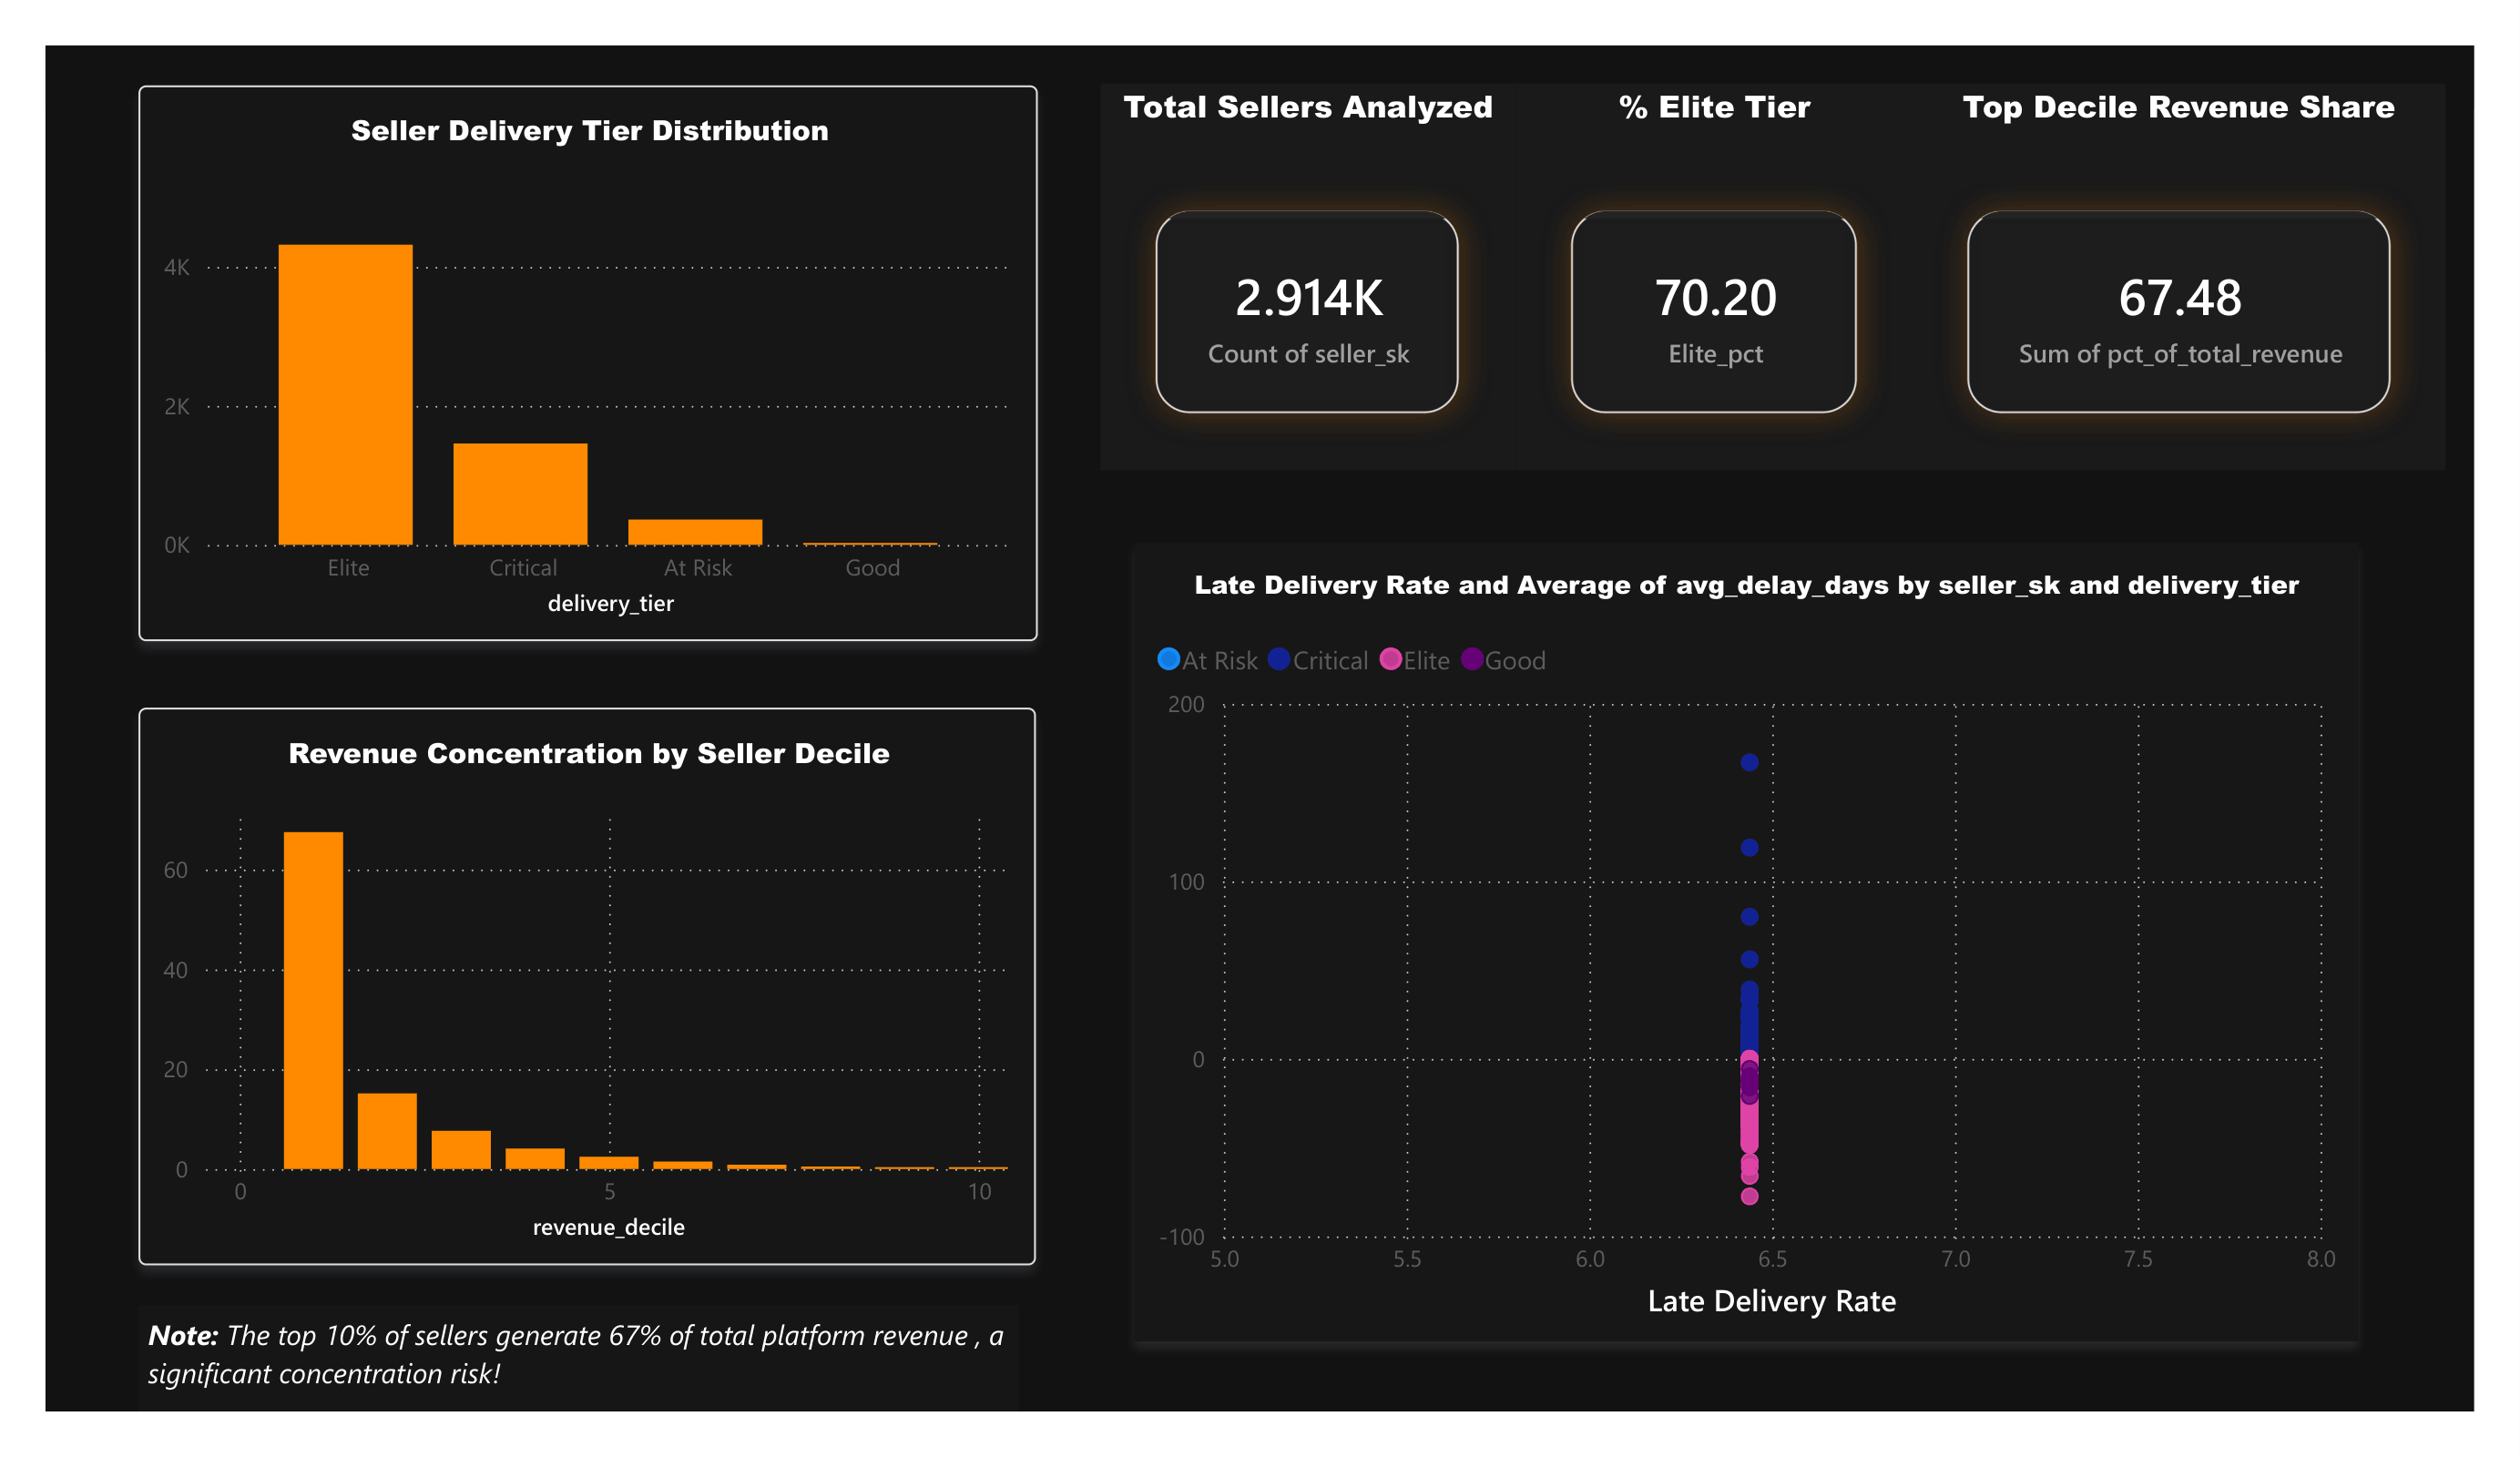

The page's visual inventory and layout, read from the dashboard file:
{"tool":"powerbi","page":{"name":"Seller Performance","canvas":[1280,720],"ordinal":2},"visuals":[{"type":"clusteredColumnChart","title":"Seller Delivery Tier Distribution","fields":{"Category":["kpi_seller_delivery_tier.delivery_tier"],"Y":["CountNonNull(kpi_seller_delivery_tier.delivery_tier)"]},"box":[49.4,20.6,473.4,293.7],"z":0},{"type":"clusteredColumnChart","title":"Revenue Concentration by Seller Decile","fields":{"Category":["kpi_revenue_concentration.revenue_decile"],"Y":["Sum(kpi_revenue_concentration.pct_of_total_revenue)"]},"box":[49.4,348.5,473,294],"z":1000},{"type":"textbox","box":[49.4,664.2,463.8,56.3],"z":2000},{"type":"cardVisual","title":"Total Sellers Analyzed","fields":{"Data":["Count(kpi_seller_delivery_tier.seller_sk)"]},"box":[556,20,218.7,204],"z":3000},{"type":"cardVisual","title":"% Elite Tier ","fields":{"Data":["kpi_seller_delivery_tier.Elite_pct"]},"box":[774.7,20,209.3,204],"z":4000},{"type":"cardVisual","title":"Top Decile Revenue Share","fields":{"Data":["Sum(kpi_revenue_concentration.pct_of_total_revenue)"]},"box":[984,20,281.3,204],"z":5000},{"type":"scatterChart","fields":{"X":["fact_order_items.Late Delivery Rate"],"Y":["Avg(kpi_seller_delivery_tier.avg_delay_days)"],"Series":["kpi_seller_delivery_tier.delivery_tier"],"Category":["kpi_seller_delivery_tier.seller_sk"]},"box":[573.6,262.1,644.9,421.3],"z":6000}]}

Visuals, with their boxes on the page's 1280x720 design canvas (x1, y1, x2, y2). These are canvas units, not pixel positions in the 2520x1457 screenshot, which may show the page scaled, cropped or inside an application window:
"Seller Delivery Tier Distribution" clusteredColumnChart: rect(49, 21, 523, 314)
"Revenue Concentration by Seller Decile" clusteredColumnChart: rect(49, 348, 522, 642)
textbox: rect(49, 664, 513, 720)
"Total Sellers Analyzed" cardVisual: rect(556, 20, 775, 224)
"% Elite Tier " cardVisual: rect(775, 20, 984, 224)
"Top Decile Revenue Share" cardVisual: rect(984, 20, 1265, 224)
scatterChart - fact_order_items.Late Delivery Rate x Avg(kpi_seller_delivery_tier.avg_delay_days): rect(574, 262, 1218, 683)
